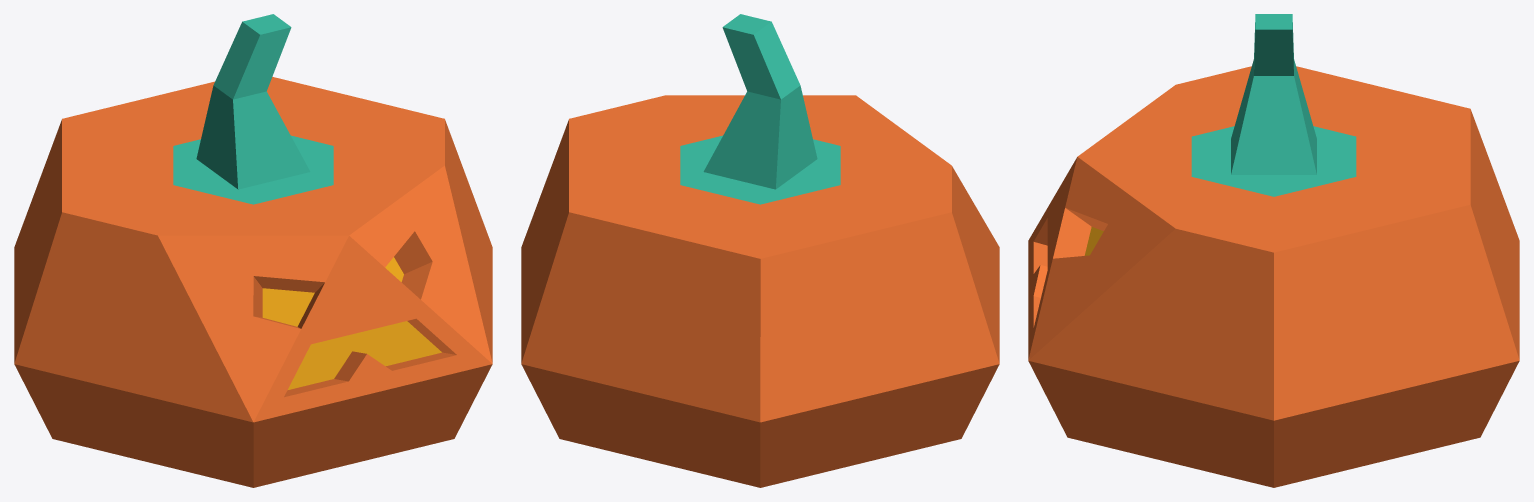
The model's file is pumpkinCarved.dae.
3 views of the same model, side by side, from view 1: azimuth 30°, elevation 25°; view 2: azimuth 150°, elevation 25°; view 3: azimuth 270°, elevation 25° (orthographic). The views are drawn at different scales.
Parts seen in each view (by area): view 1: pumpkinCarved; view 2: pumpkinCarved; view 3: pumpkinCarved.
Part boxes in pixels (x1,y1,x2,y2): pumpkinCarved: (14, 14, 492, 487); pumpkinCarved: (521, 14, 999, 487); pumpkinCarved: (1028, 14, 1519, 487).
Size of the model in its own units: 0.357 by 0.2583 by 0.3092.
